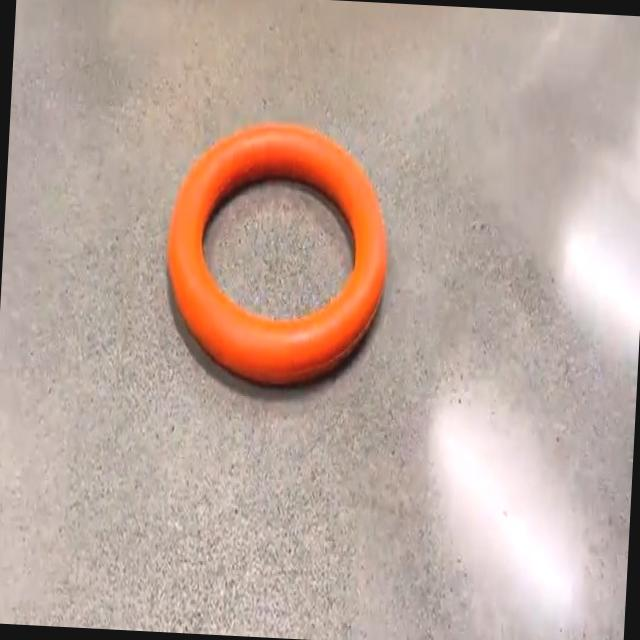note: (168, 125, 387, 384)
